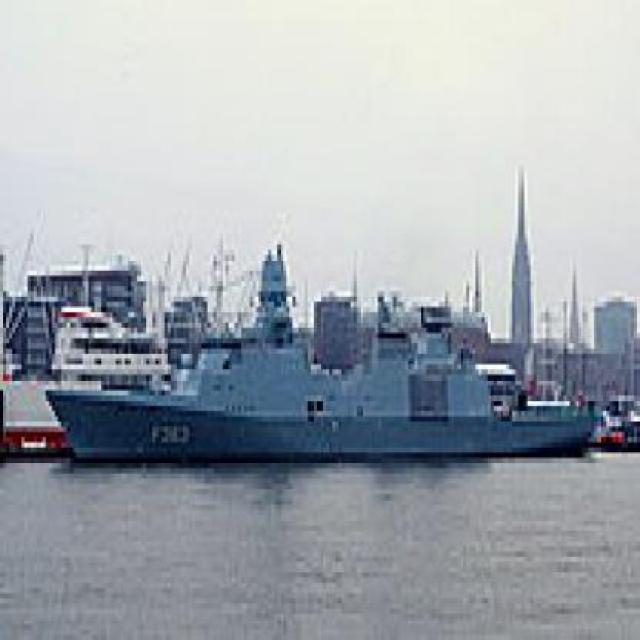warship2: (50, 220, 607, 491)
